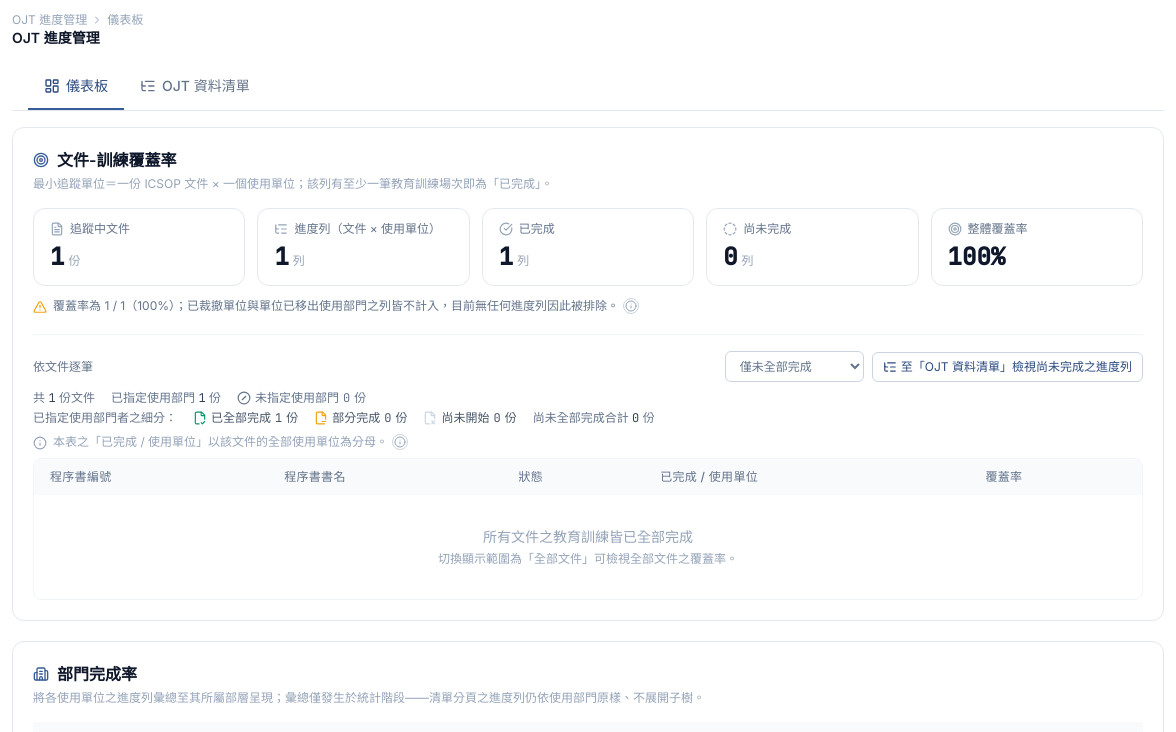
Test: ② 應完成訓練日期＝公告日期 + 1 個月，標示於程序書名之後 › org 模式：列上呈現「應完成訓練 {公告日期+1月}」
Click the tab "OJT 資料清單" at (195,87), box [124,64,266,110]
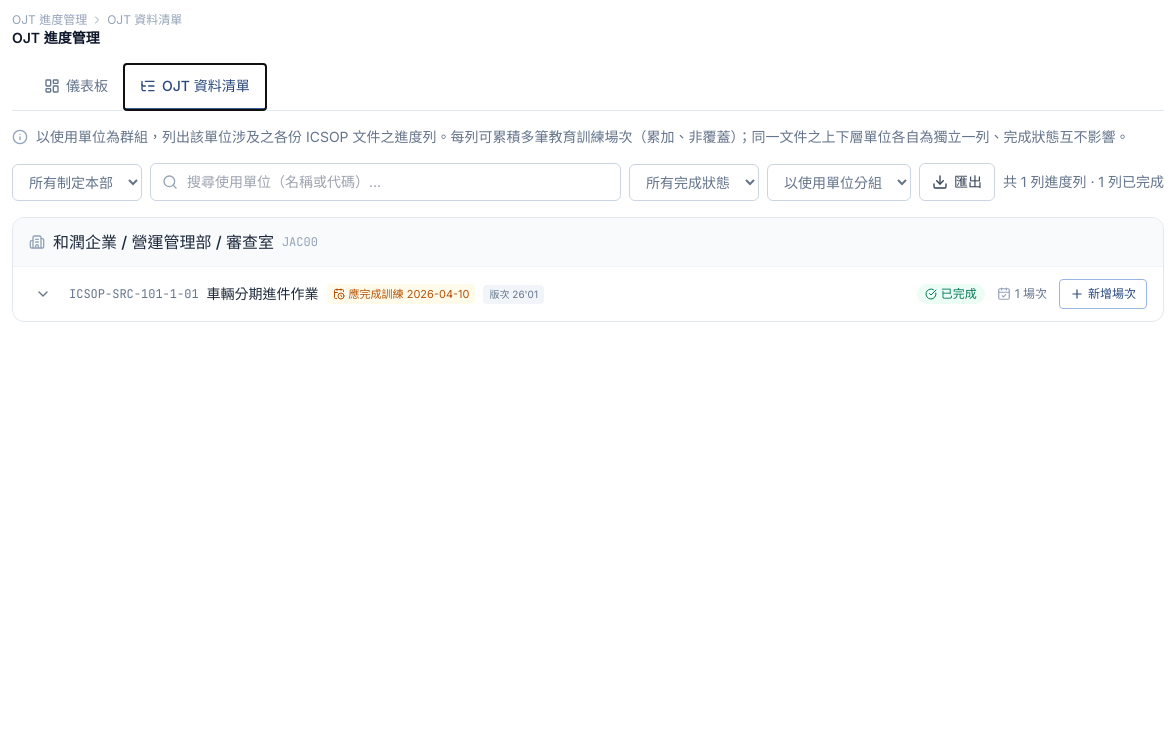
Expected: the element that starts with "ICSOP-SRC-101-1-01" is shown, [29,279,1147,309]
Expected: the element showing "應完成訓練 2026-04-10" is shown, [327,284,476,304]
